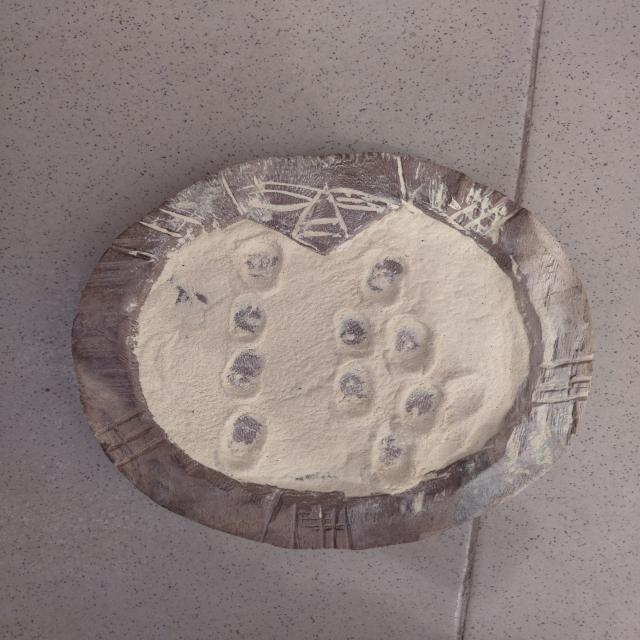double: (332, 364, 444, 432), (334, 308, 436, 372)
single: (216, 405, 268, 472), (358, 254, 412, 314), (232, 237, 286, 293), (375, 418, 417, 488), (221, 347, 268, 402), (228, 294, 272, 347)
